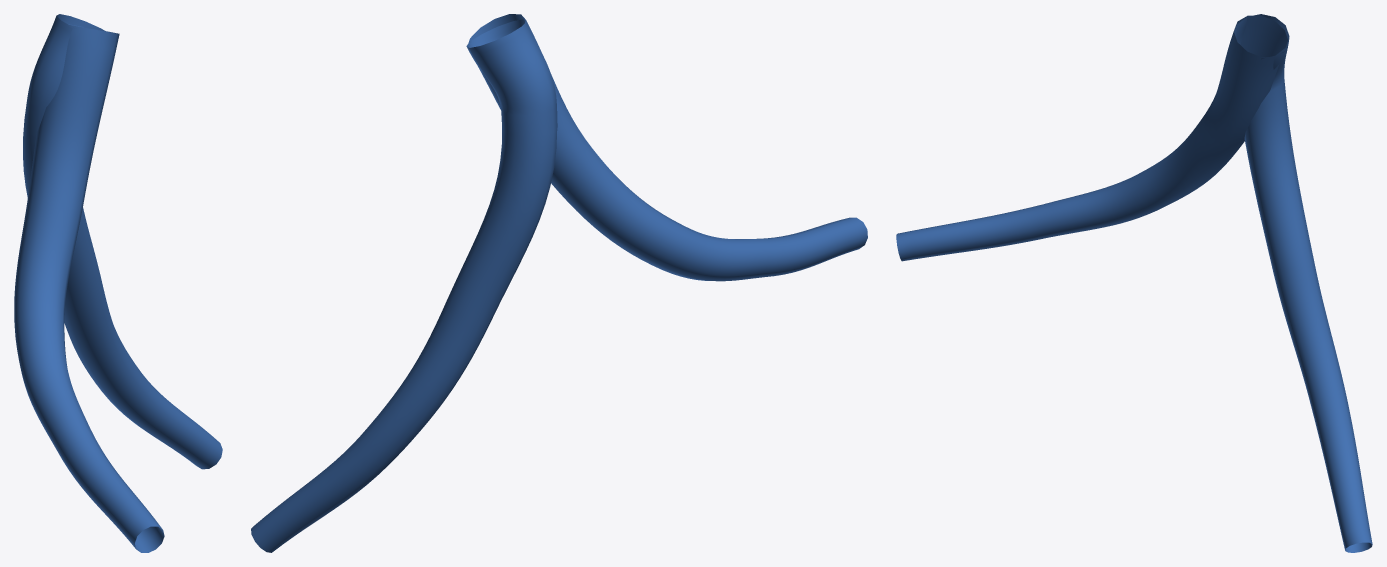
The picture shows the model from 3 angles, left to right: view 1: azimuth 30°, elevation 25°; view 2: azimuth 150°, elevation 25°; view 3: azimuth 270°, elevation 25°; orthographic projection. The views are drawn at different scales.
Visible parts, largest first — view 1: 右肺前静脉; view 2: 右肺前静脉; view 3: 右肺前静脉.
Boxes of the visible parts, <box> form: 右肺前静脉: <box>14,14,222,552</box>; 右肺前静脉: <box>251,14,867,552</box>; 右肺前静脉: <box>896,14,1372,552</box>.
Size of the model in its own units: 0.0361 by 0.0525 by 0.0495.
